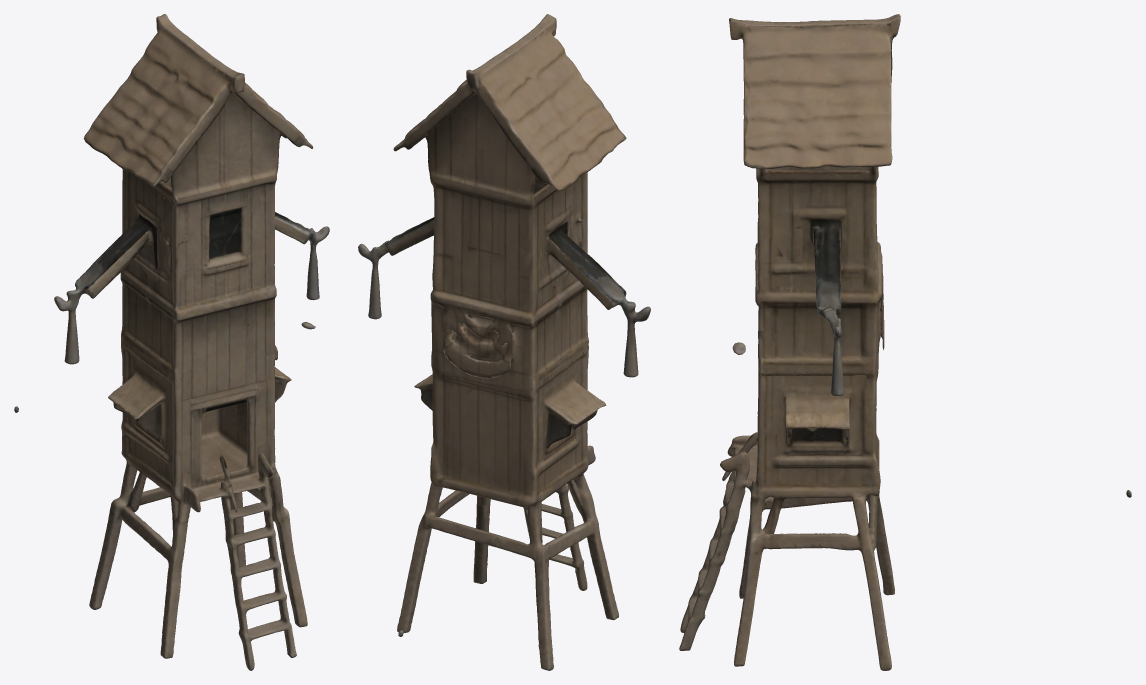
Rendered from treehouse.glb.
3 renders of one model, left to right at view 1: azimuth 30°, elevation 25°; view 2: azimuth 150°, elevation 25°; view 3: azimuth 270°, elevation 25°, orthographic. The views are drawn at different scales.
Bounding box in the file's own units: 1.02 × 2.02 × 1.33.
Materials: 1 (1 with a texture image).
